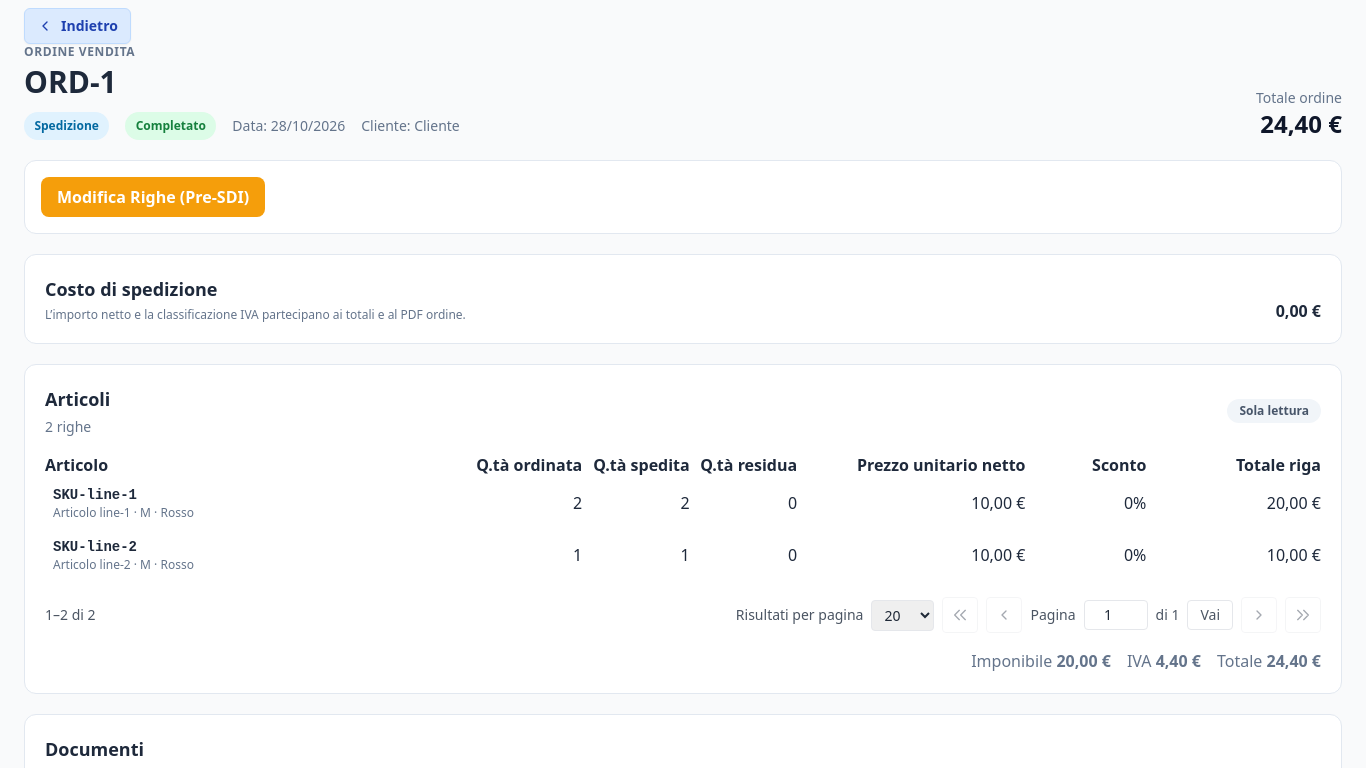
Test case: OrderDetailComponent › pre-SDI line adjustment › offers the reopen action on a completed order and reloads it after posting
expect the text "Attenzione: Modifica in corso per fattura non ancora trasmessa allo SDI" is not shown: met
Click the button "Modifica Righe (Pre-SDI)": click(153, 197) x1=41 y1=177 x2=265 y2=217
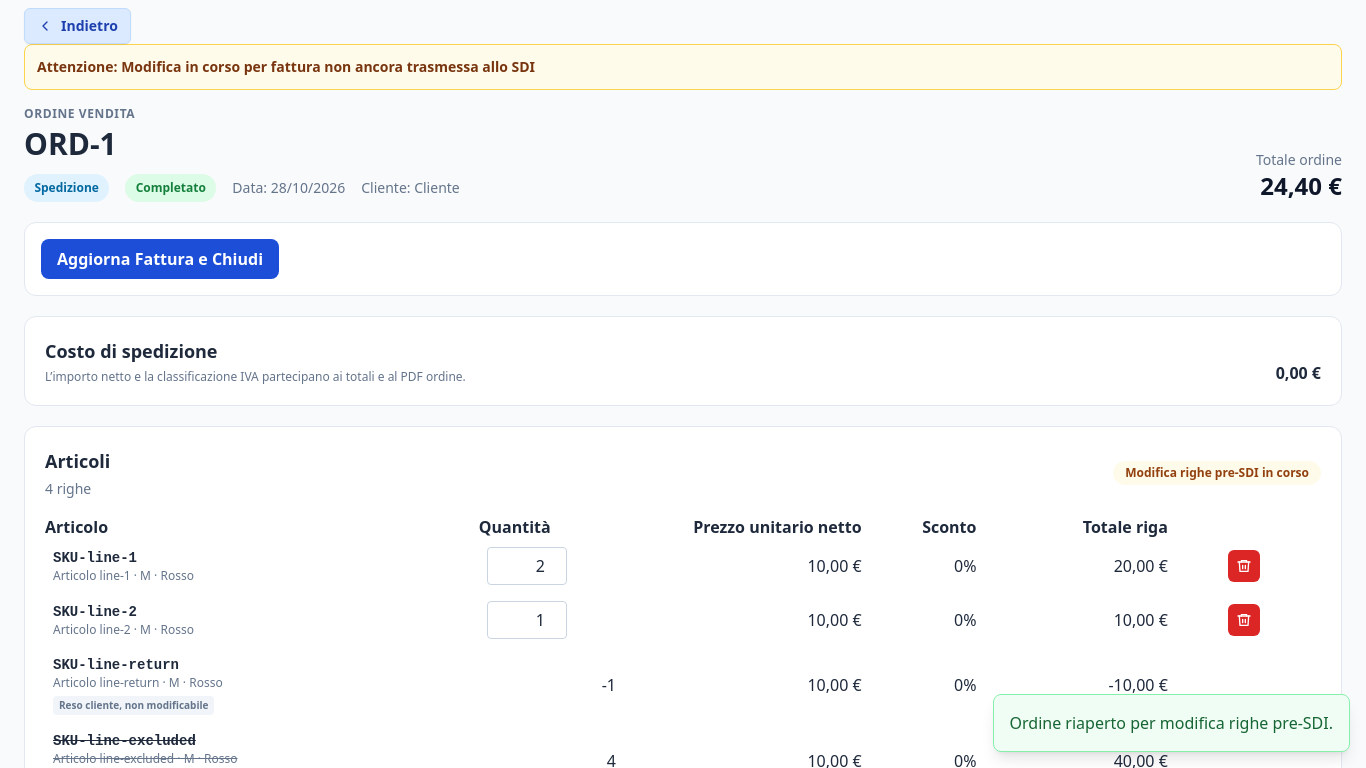
expect the text "Ordine riaperto per modifica righe pre-SDI." is shown: met, box x1=992 y1=694 x2=1350 y2=752
expect the text "Attenzione: Modifica in corso per fattura non ancora trasmessa allo SDI" is shown: met, box x1=24 y1=44 x2=1342 y2=90
